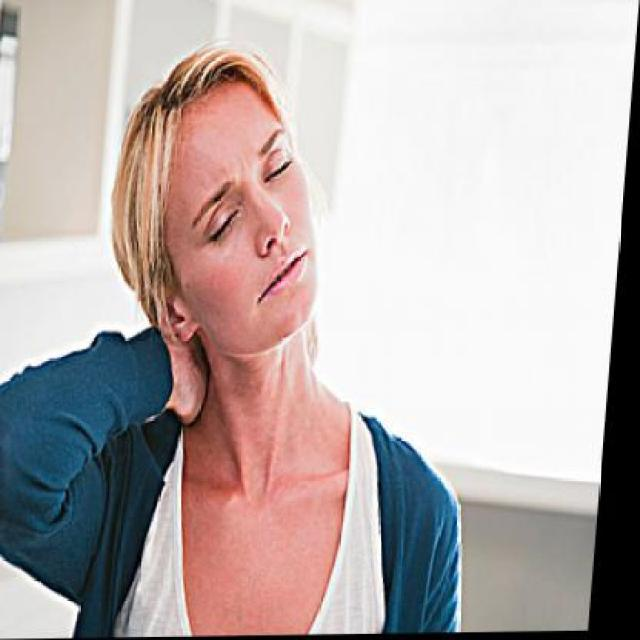Healthy: (209, 343, 318, 503)
